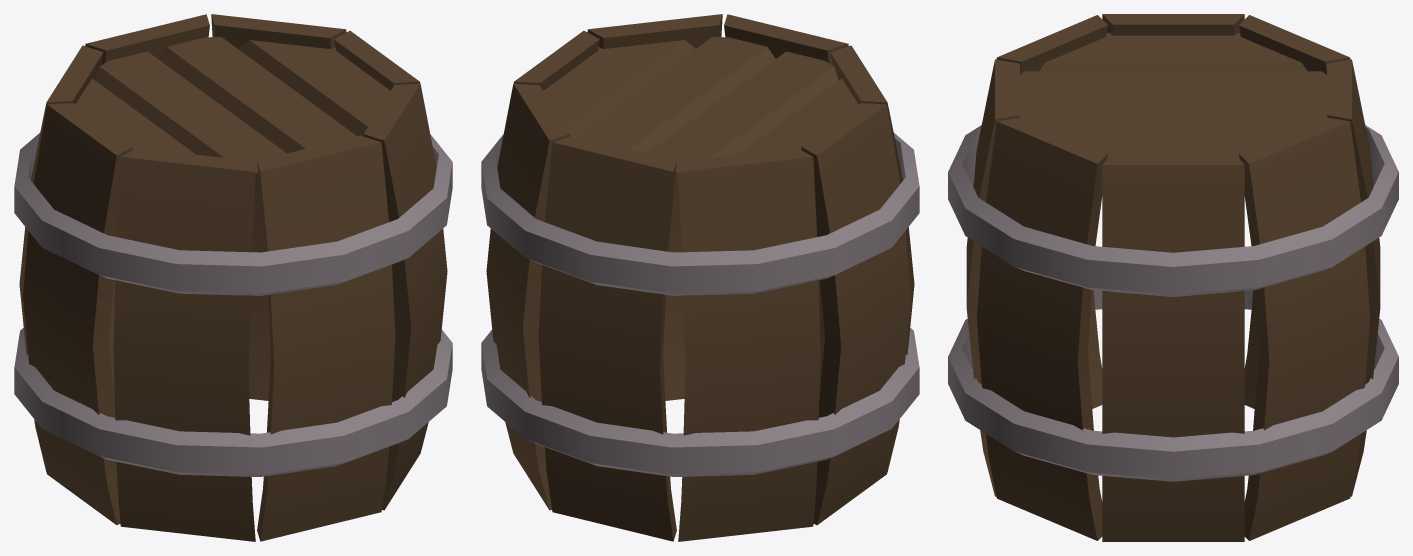
Rendered from Barrel.glb.
3 views of the same model, side by side, from view 1: azimuth 30°, elevation 25°; view 2: azimuth 150°, elevation 25°; view 3: azimuth 270°, elevation 25° (orthographic).
Visible parts, largest first — view 1: Prop_Barrel; view 2: Prop_Barrel; view 3: Prop_Barrel.
Part boxes in pixels (x1=…): Prop_Barrel: x1=14, y1=14, x2=452, y2=541; Prop_Barrel: x1=481, y1=14, x2=919, y2=541; Prop_Barrel: x1=948, y1=14, x2=1398, y2=541.
Bounding box in the file's own units: 0.7147 × 0.6599 × 0.7147.
Materials: 1 (1 with a texture image).
